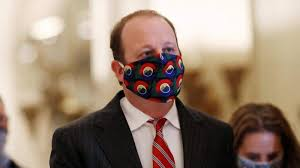mask: (124, 54, 185, 103)
